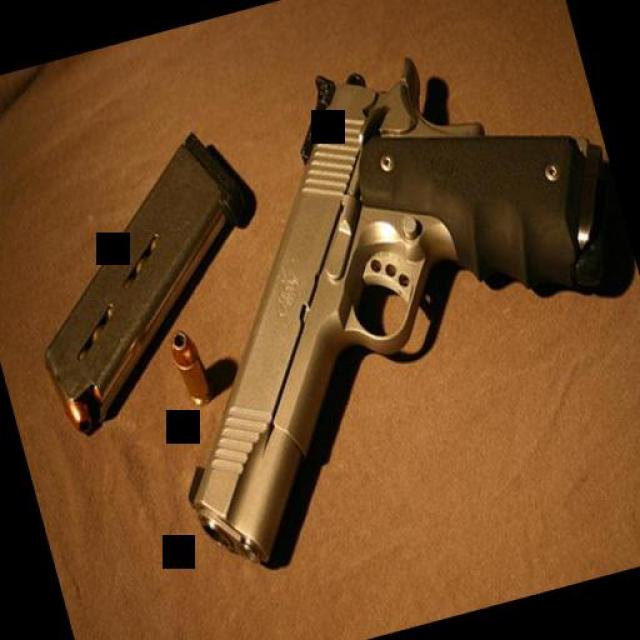gun: (85, 1, 640, 581)
